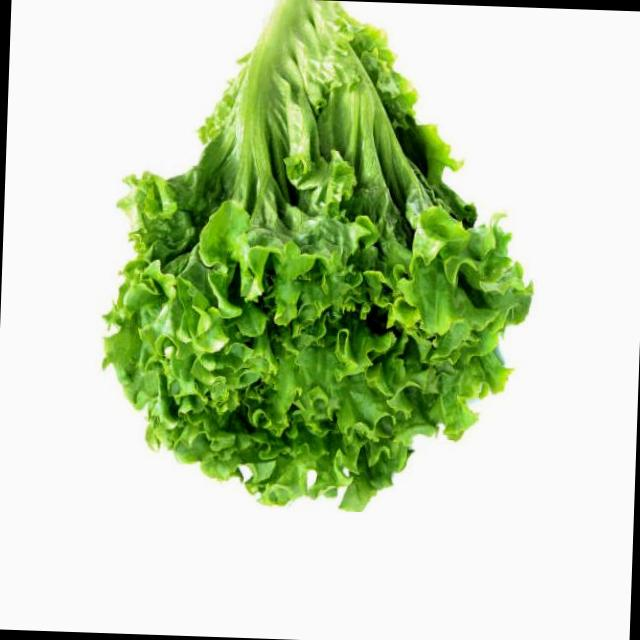Lettuce-Ready-to-Harvest: (105, 0, 531, 508)
